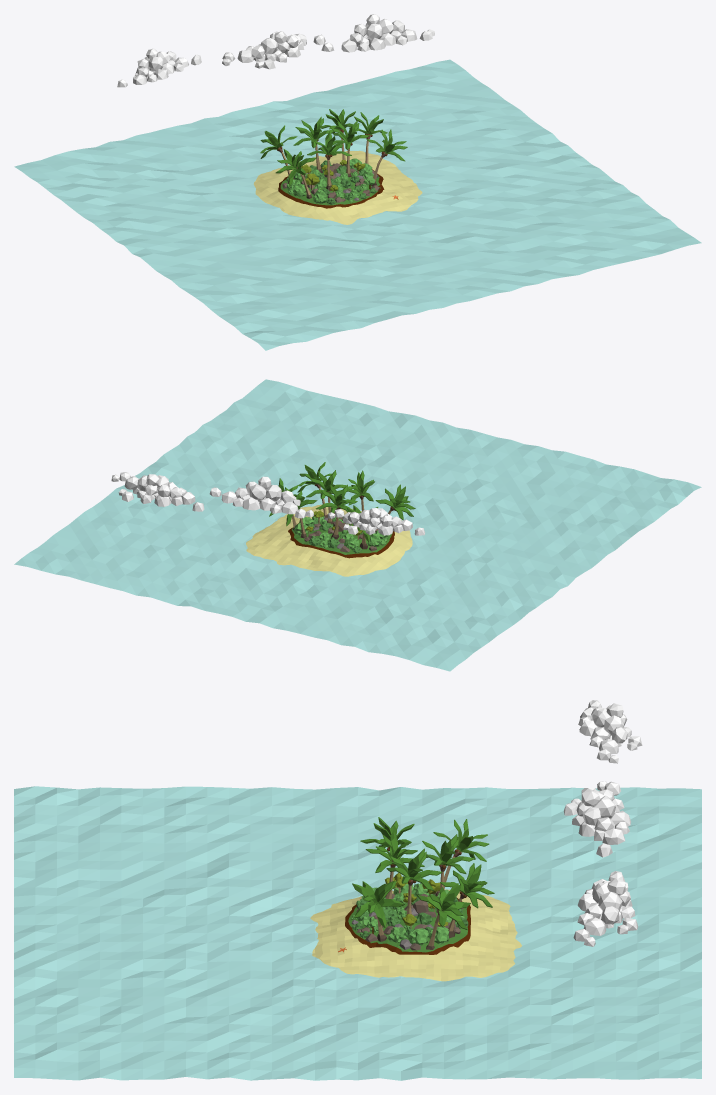
3 renders of one model, top to bottom at view 1: azimuth 30°, elevation 25°; view 2: azimuth 150°, elevation 25°; view 3: azimuth 270°, elevation 25°, orthographic. The views are drawn at different scales.
Parts seen in each view (by area): view 1: Plane, Plane.001, Cloud.002, Cloud.000, Cloud.001, Palmtree.001, Palmtree.005, Palmtree.006, Palmtree.003, Palmtree.004; view 2: Plane, Plane.001, Cloud.000, Cloud.002, Cloud.001, Palmtree.005, Palmtree.001, Palmtree.004, Palmtree.006; view 3: Plane, Plane.001, Cloud.000, Cloud.002, Cloud.001, Palmtree.003, Palmtree.007, Palmtree.002, Palmtree.004, Palmtree.006, Palmtree.005, Palmtree.000.
Part boxes in pixels (x1,y1,x2,y2): Plane: (14, 59, 701, 350); Plane.001: (253, 150, 422, 224); Cloud.002: (321, 14, 434, 52); Cloud.000: (222, 31, 325, 69); Cloud.001: (117, 48, 201, 87); Palmtree.001: (275, 149, 316, 198); Palmtree.005: (293, 116, 333, 173); Palmtree.006: (307, 131, 351, 191); Palmtree.003: (366, 129, 407, 186); Palmtree.004: (330, 120, 369, 177); Plane: (14, 379, 701, 671); Plane.001: (246, 504, 412, 576); Cloud.000: (209, 476, 313, 518); Cloud.002: (111, 472, 204, 511); Cloud.001: (328, 508, 425, 535); Palmtree.005: (315, 484, 357, 539); Palmtree.001: (375, 484, 415, 520); Palmtree.004: (306, 470, 346, 524); Palmtree.006: (338, 470, 374, 510); Plane: (14, 786, 701, 1080); Plane.001: (310, 889, 521, 981); Cloud.000: (564, 781, 630, 857); Cloud.002: (573, 871, 638, 946); Cloud.001: (578, 700, 642, 763); Palmtree.003: (352, 880, 404, 941); Palmtree.007: (417, 883, 470, 949); Palmtree.002: (440, 863, 494, 938); Palmtree.004: (386, 848, 442, 922); Palmtree.006: (365, 831, 424, 898); Palmtree.005: (422, 834, 474, 912); Palmtree.000: (433, 819, 489, 896).
Bounding box in the file's own units: 73.41 × 19.36 × 73.41.
